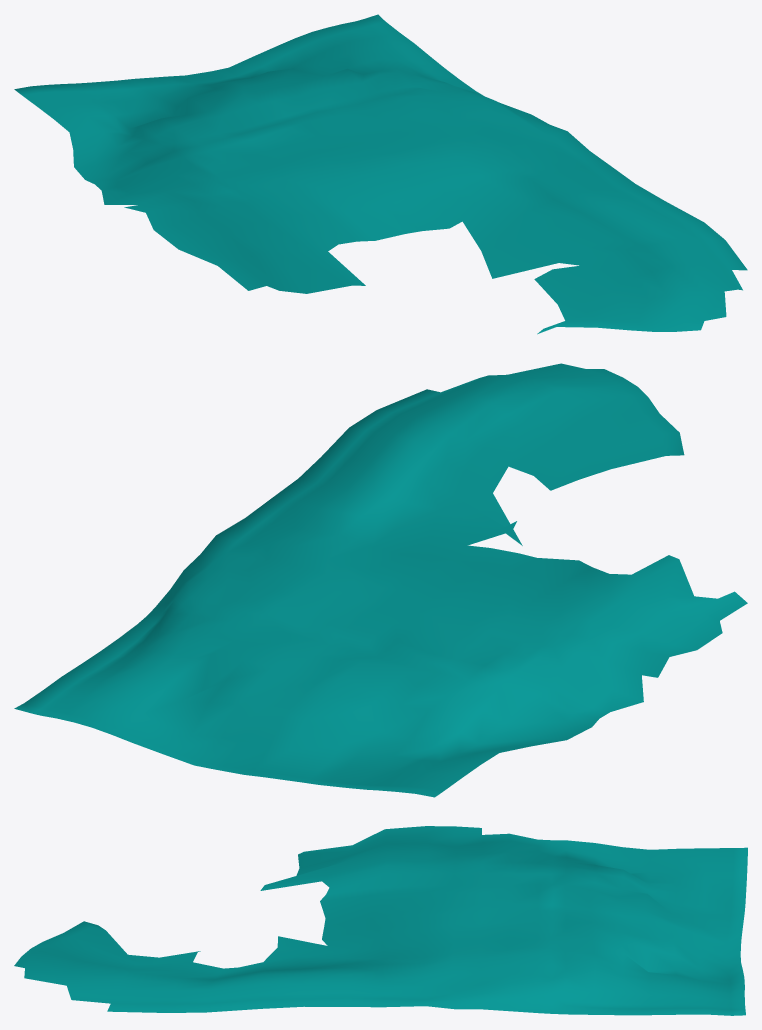
File: flatter03.fbx
3 views of the same model, one above another, from view 1: azimuth 30°, elevation 25°; view 2: azimuth 150°, elevation 25°; view 3: azimuth 270°, elevation 25° (orthographic). The views are drawn at different scales.
Parts seen in each view (by area): view 1: terrain_beach_official_uv_Flatter_2_after_feedback; view 2: terrain_beach_official_uv_Flatter_2_after_feedback; view 3: terrain_beach_official_uv_Flatter_2_after_feedback.
Boxes of the visible parts, x1=… form: terrain_beach_official_uv_Flatter_2_after_feedback: x1=14, y1=14, x2=747, y2=334; terrain_beach_official_uv_Flatter_2_after_feedback: x1=14, y1=363, x2=747, y2=797; terrain_beach_official_uv_Flatter_2_after_feedback: x1=14, y1=826, x2=747, y2=1015.
Size of the model in its own units: 258 by 28.39 by 436.
